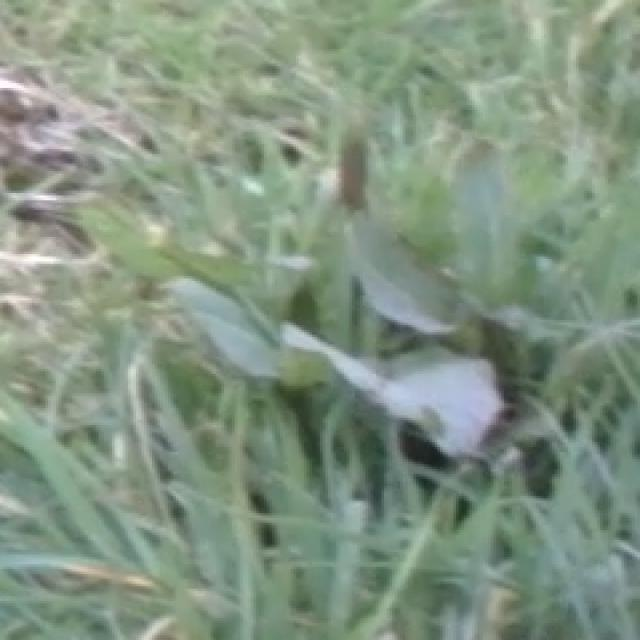organic waste: (97, 132, 635, 474)
